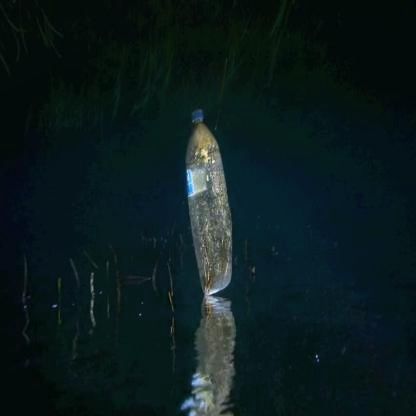pbottle: (172, 99, 242, 306)
